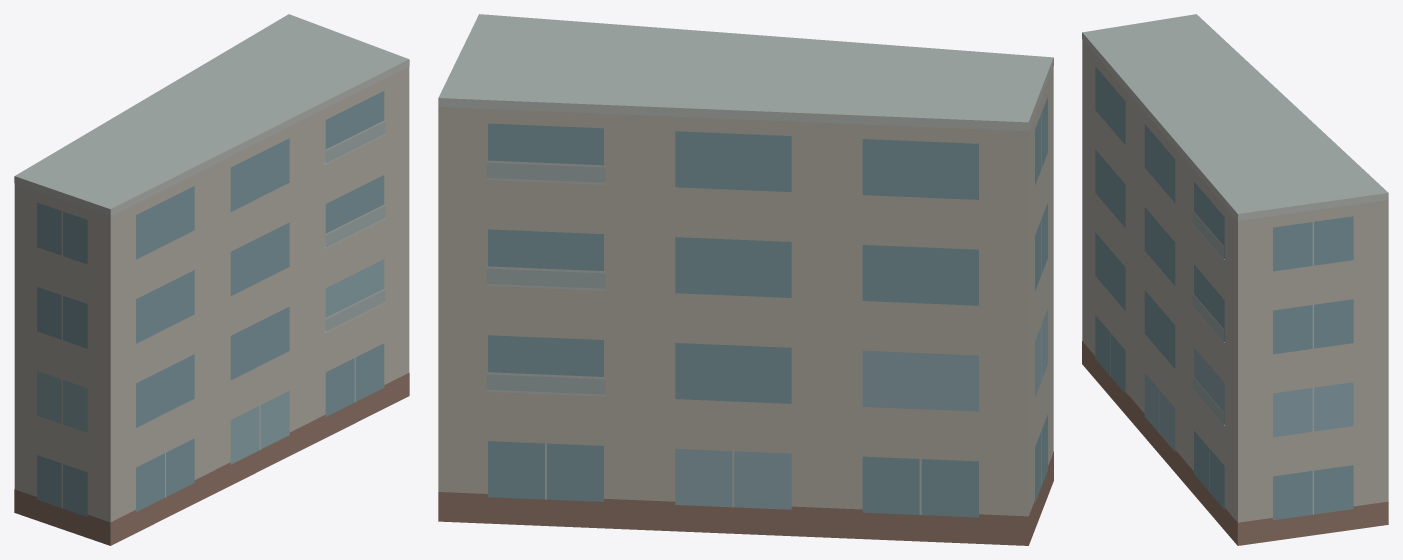
The model's file is survey-upis-32506312.glb.
3 views of the same model, side by side, from view 1: azimuth 30°, elevation 25°; view 2: azimuth 150°, elevation 25°; view 3: azimuth 270°, elevation 25° (orthographic). The views are drawn at different scales.
Visible parts, largest first — view 1: survey-upis-32506312.tmp; view 2: survey-upis-32506312.tmp; view 3: survey-upis-32506312.tmp.
Boxes of the visible parts, x1,y1,x2,y2 form: survey-upis-32506312.tmp: (14,14,409,545); survey-upis-32506312.tmp: (438,14,1053,545); survey-upis-32506312.tmp: (1082,14,1388,545).
Size of the model in its own units: 15.01 by 11.6 by 9.72.
